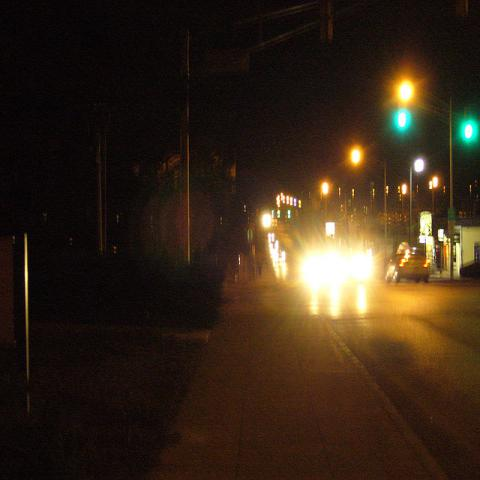car: (384, 247, 431, 285), (273, 246, 287, 264), (267, 231, 281, 243)
